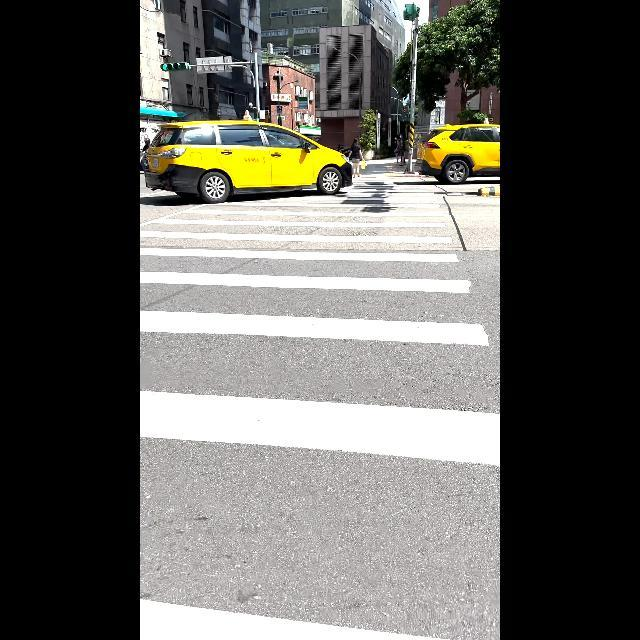sidewalk: (140, 187, 499, 640)
